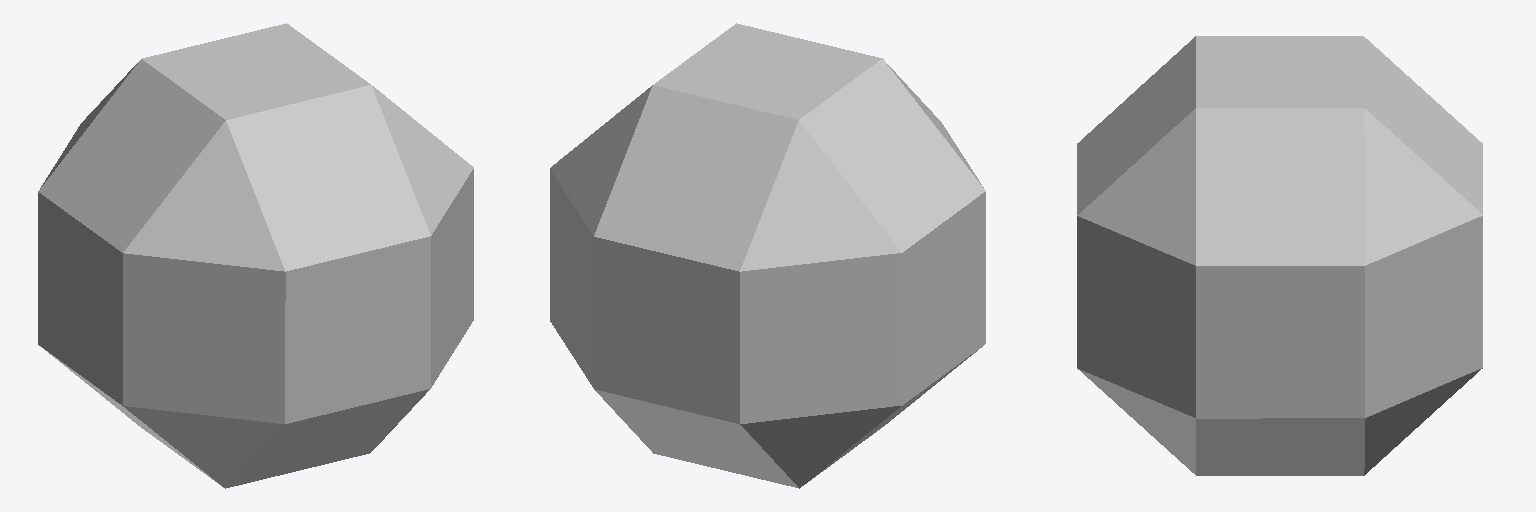
File: ElongatedSquareGyroBiCupola.obj
3 views of the same model, side by side, from view 1: azimuth 30°, elevation 25°; view 2: azimuth 150°, elevation 25°; view 3: azimuth 270°, elevation 25° (orthographic).
Visible parts, largest first — view 1: ElongatedSquareGyroBiCupola; view 2: ElongatedSquareGyroBiCupola; view 3: ElongatedSquareGyroBiCupola.
Part boxes in pixels (bbox=[...]): ElongatedSquareGyroBiCupola: bbox=[38, 23, 473, 488]; ElongatedSquareGyroBiCupola: bbox=[550, 23, 985, 488]; ElongatedSquareGyroBiCupola: bbox=[1077, 36, 1482, 475].
Size of the model in its own units: 1.81 by 1.81 by 1.81.